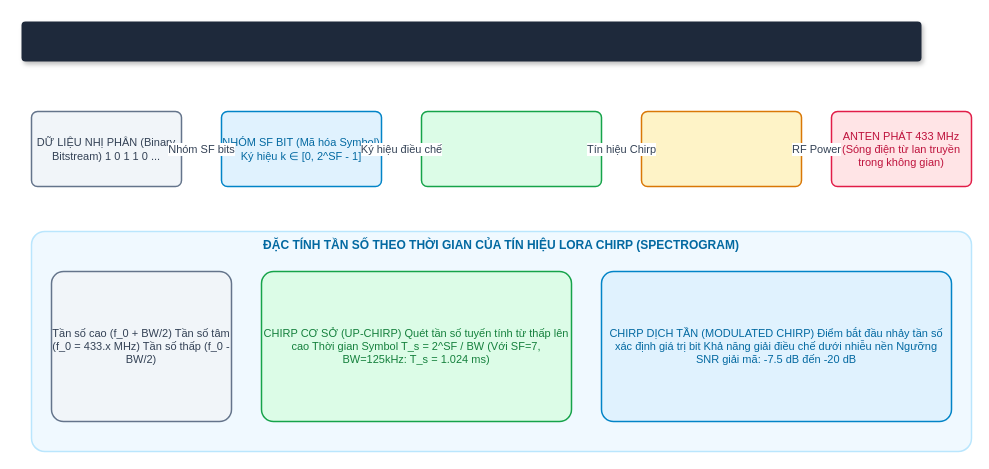
Image size: 989x469. Some labels were removed from this diagram. Here are the shapes that lost their labels. From the top down, the centre of each, then its label:
the point at 472,42: NGUYÊN LÝ ĐIỀU CHẾ TRẢI PHỔ CHIRP (LORA CHIRP SPREAD SPECTRUM)
the point at 511,148: BỘ TẠO CHIRP CSS (Frequency Sweeping) f(t) = f_start + (BW / T_s) * t
the point at 721,148: KHUẾCH ĐẠI CÔNG SUẤT (RF Power Amplifier) PA_BOOST = +17 dBm
